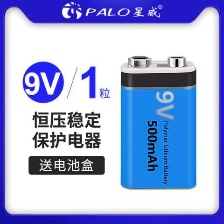battery: (117, 51, 199, 192)
